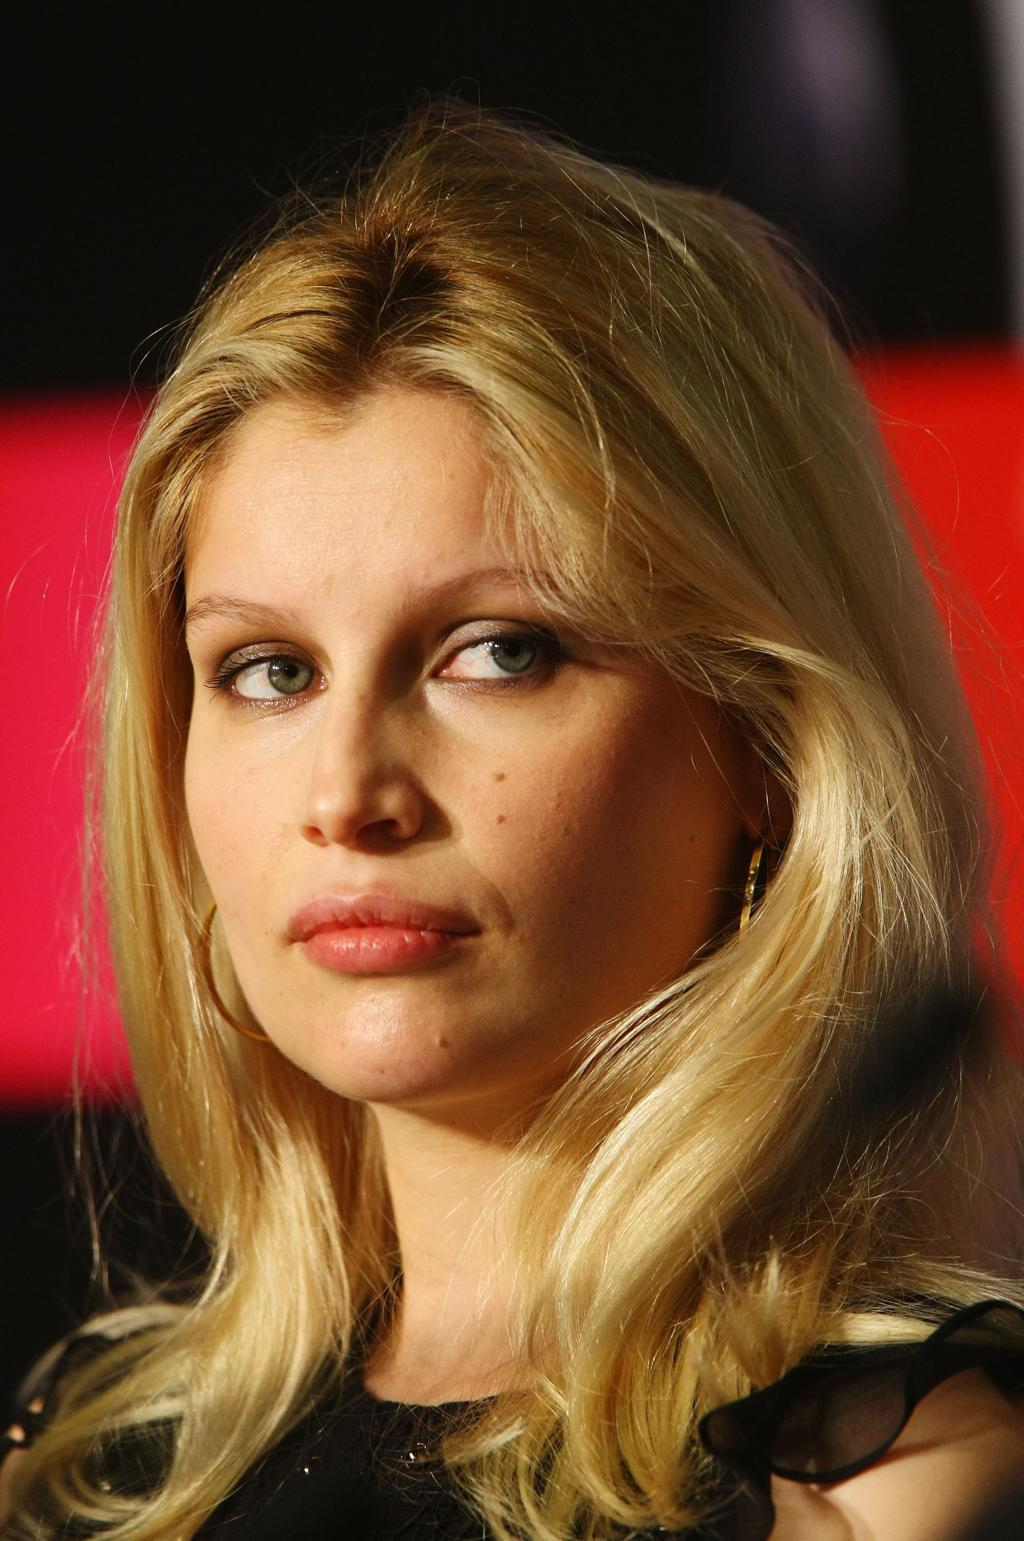face: (182, 396, 742, 1104)
